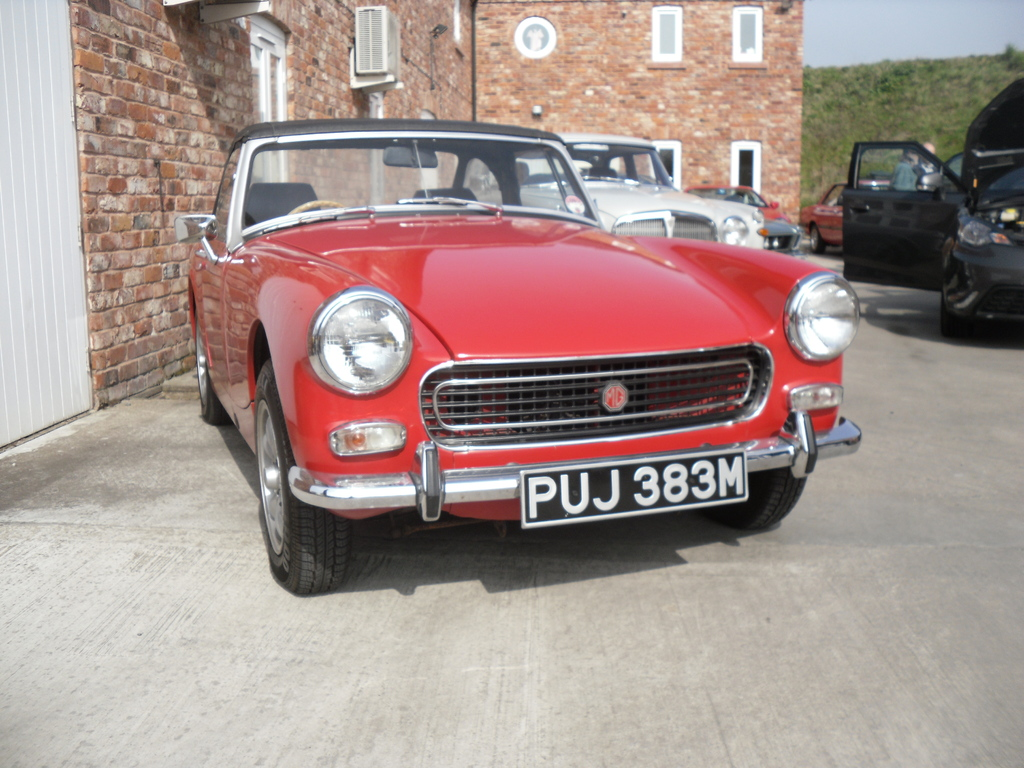mobil: (182, 102, 881, 581)
